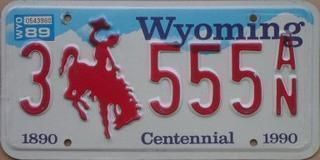placa de veiculo: (1, 0, 317, 157)
